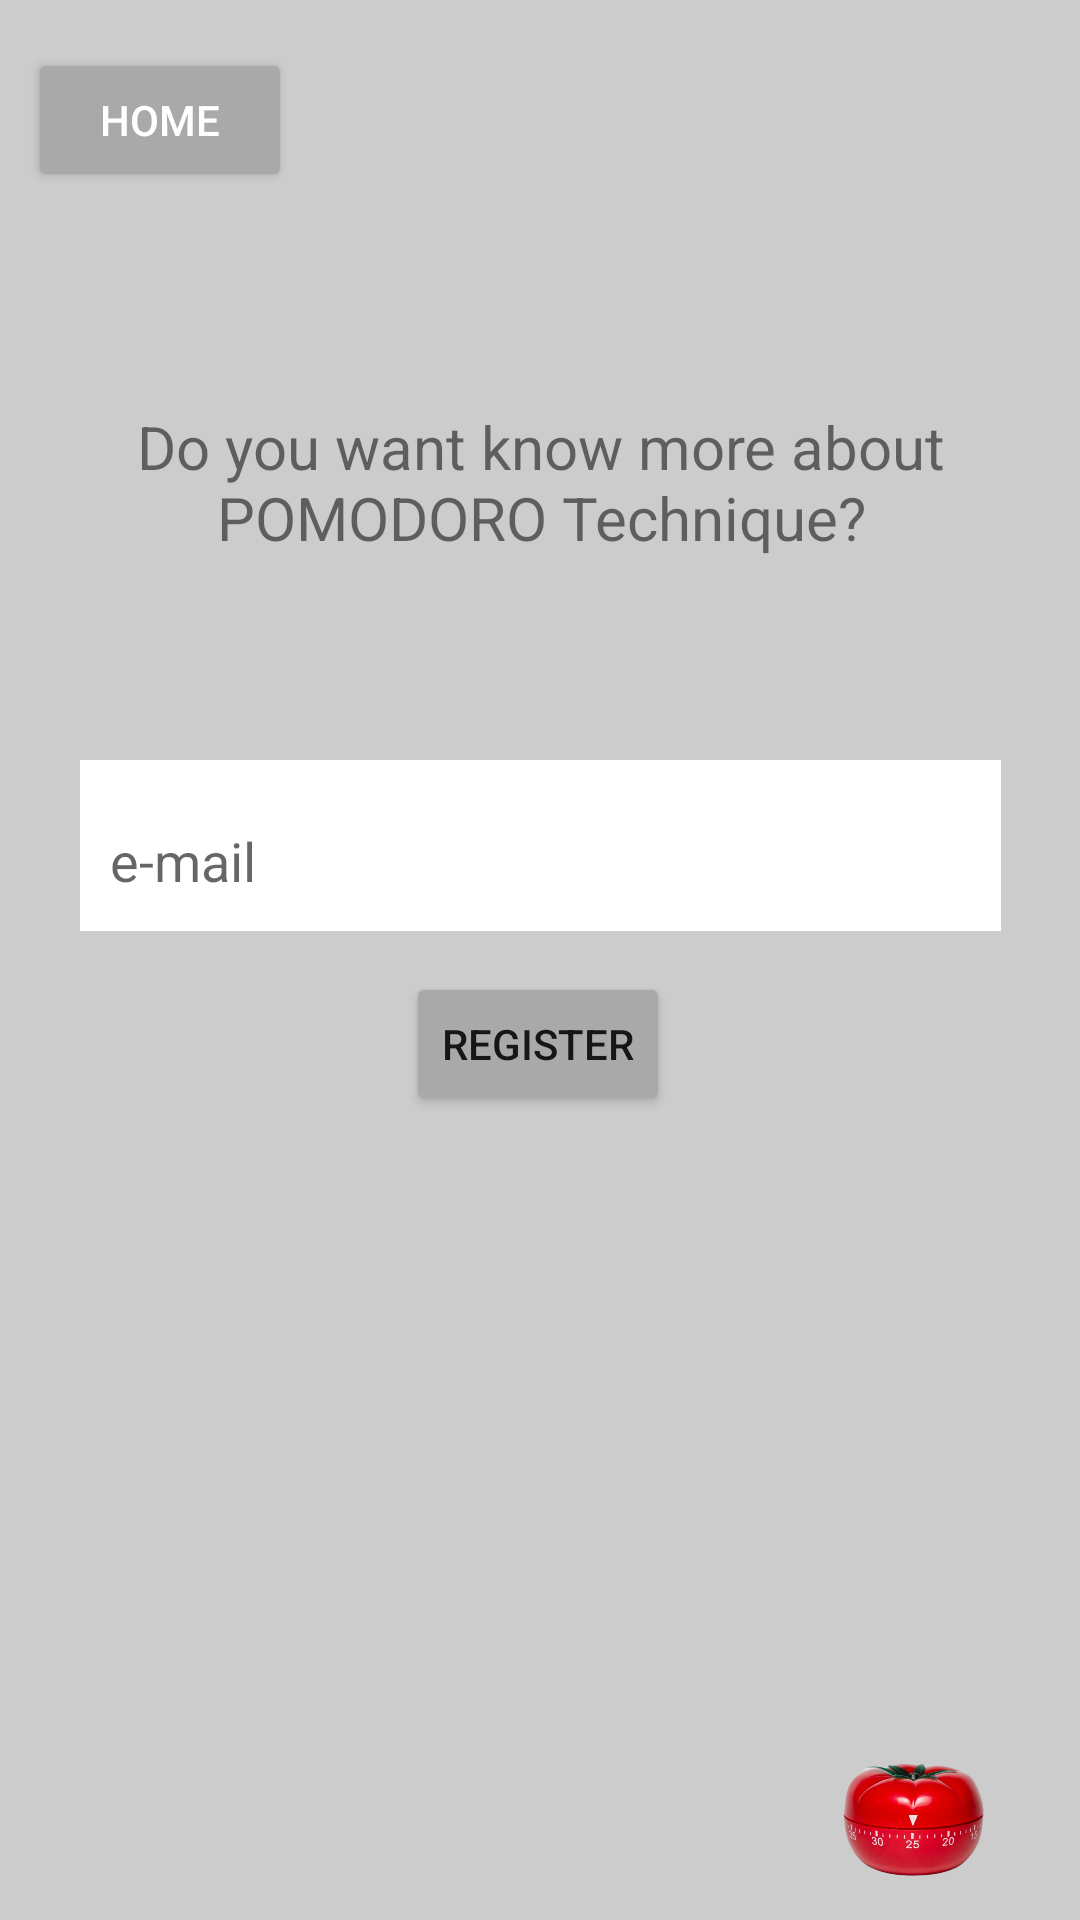

Named icons in this screenshot (1080 × 1920) and their bounding boxes, (x1, y1, x2, y2):
tomato: (844, 1764, 984, 1876)
